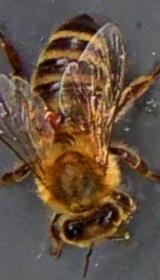varroa_mite: (41, 104, 70, 124)
